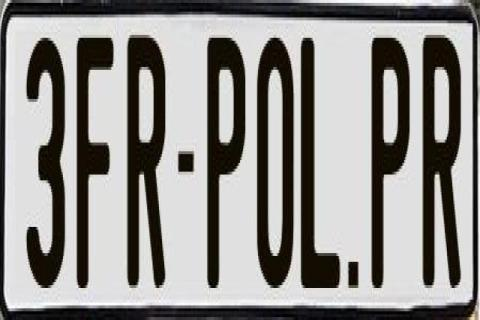0: (258, 35, 299, 303), (24, 35, 62, 303)
F: (76, 29, 114, 291)
L: (300, 29, 346, 279)
P: (204, 29, 245, 297), (370, 35, 408, 288)
R: (419, 35, 463, 291), (126, 26, 167, 282)
